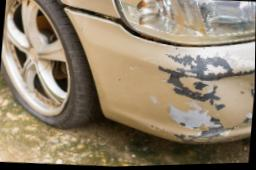Bumper: (61, 8, 256, 166)
